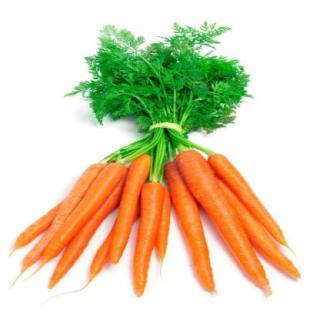Wortel: (178, 150, 278, 298), (131, 181, 169, 298)
